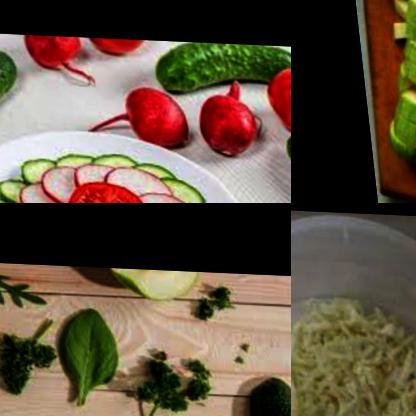avocado: (220, 336, 291, 416)
cabbage: (291, 296, 416, 416)
cucumber: (5, 133, 187, 182), (146, 36, 291, 94), (0, 41, 26, 167), (167, 166, 225, 203), (0, 157, 29, 203), (275, 121, 291, 203)
rediska: (189, 78, 262, 161), (41, 155, 167, 196), (118, 82, 195, 145), (13, 32, 88, 77), (17, 172, 83, 203), (88, 35, 144, 68), (133, 179, 191, 203)
tomato: (55, 173, 142, 203), (261, 59, 291, 133)
vegetable marrow: (353, 0, 416, 195)
